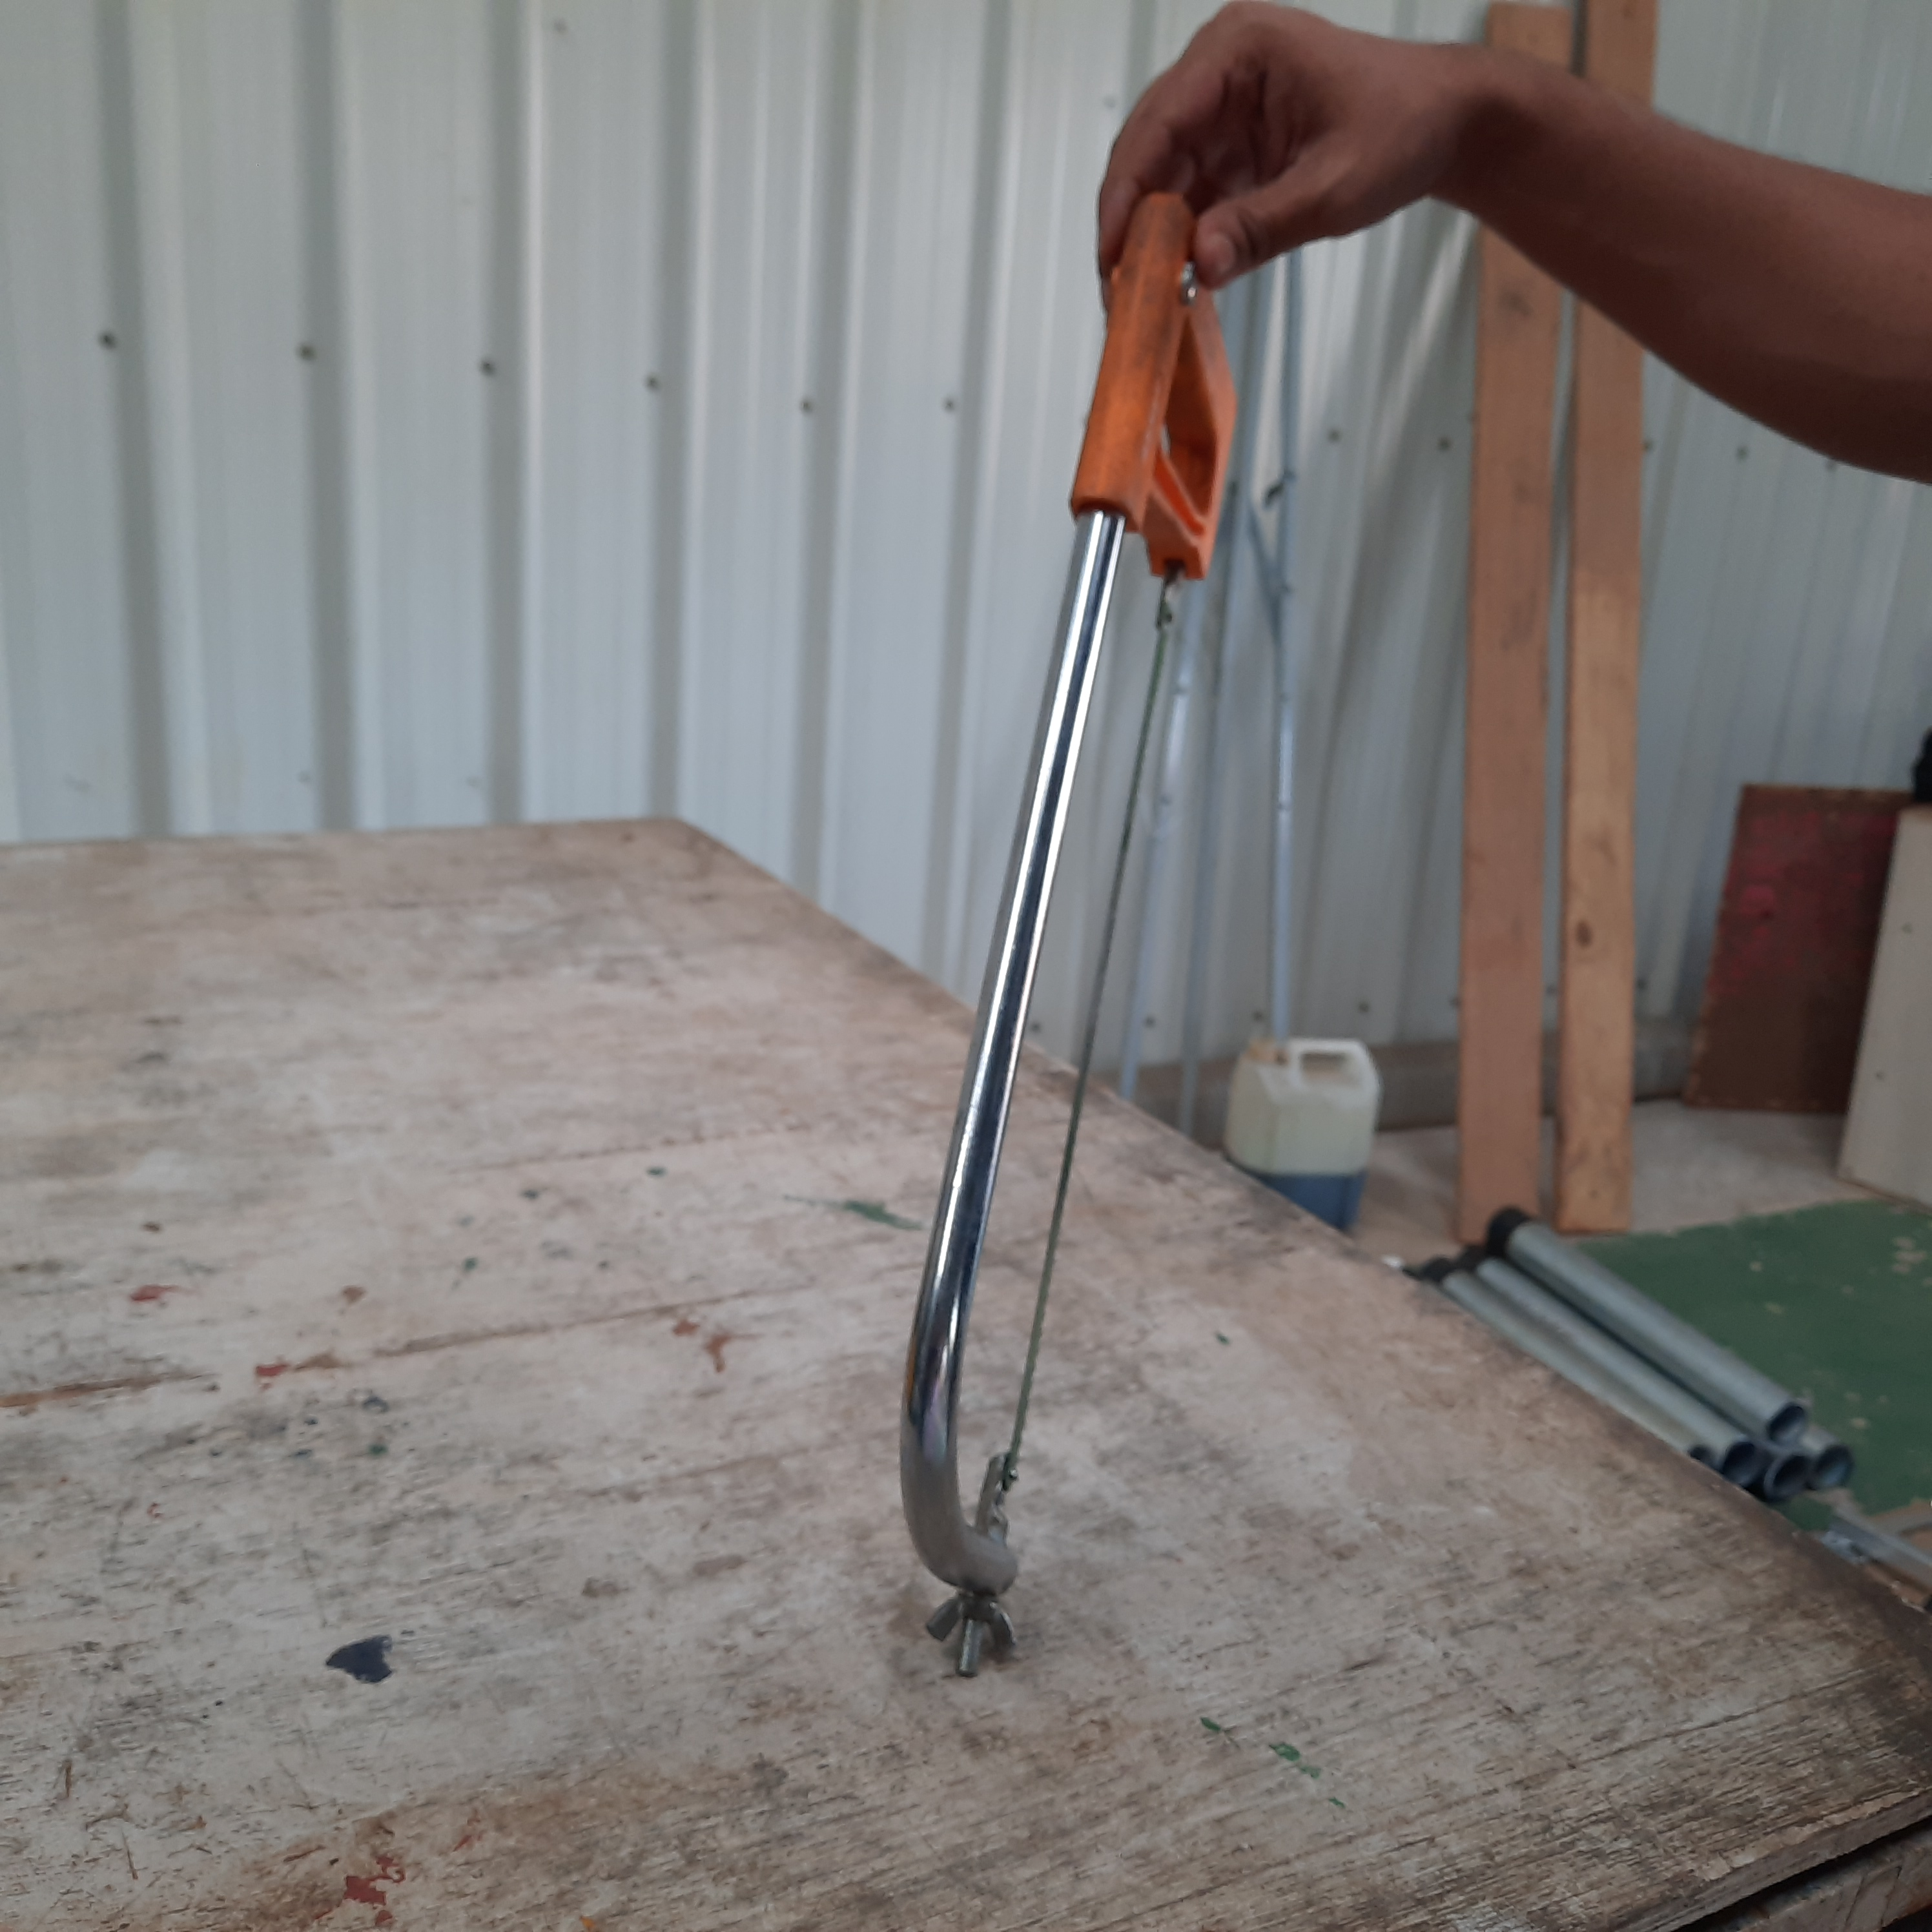Hexaframe: (847, 159, 1361, 1790)
